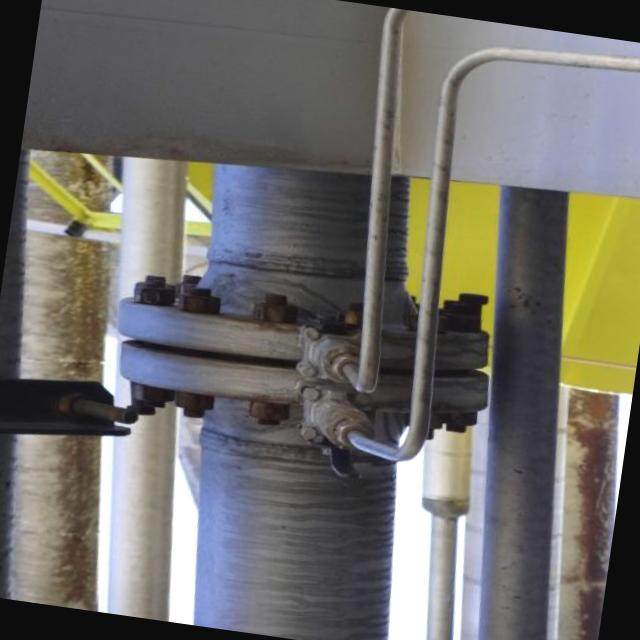gas: (162, 159, 445, 640), (426, 175, 624, 640), (42, 152, 234, 622)
